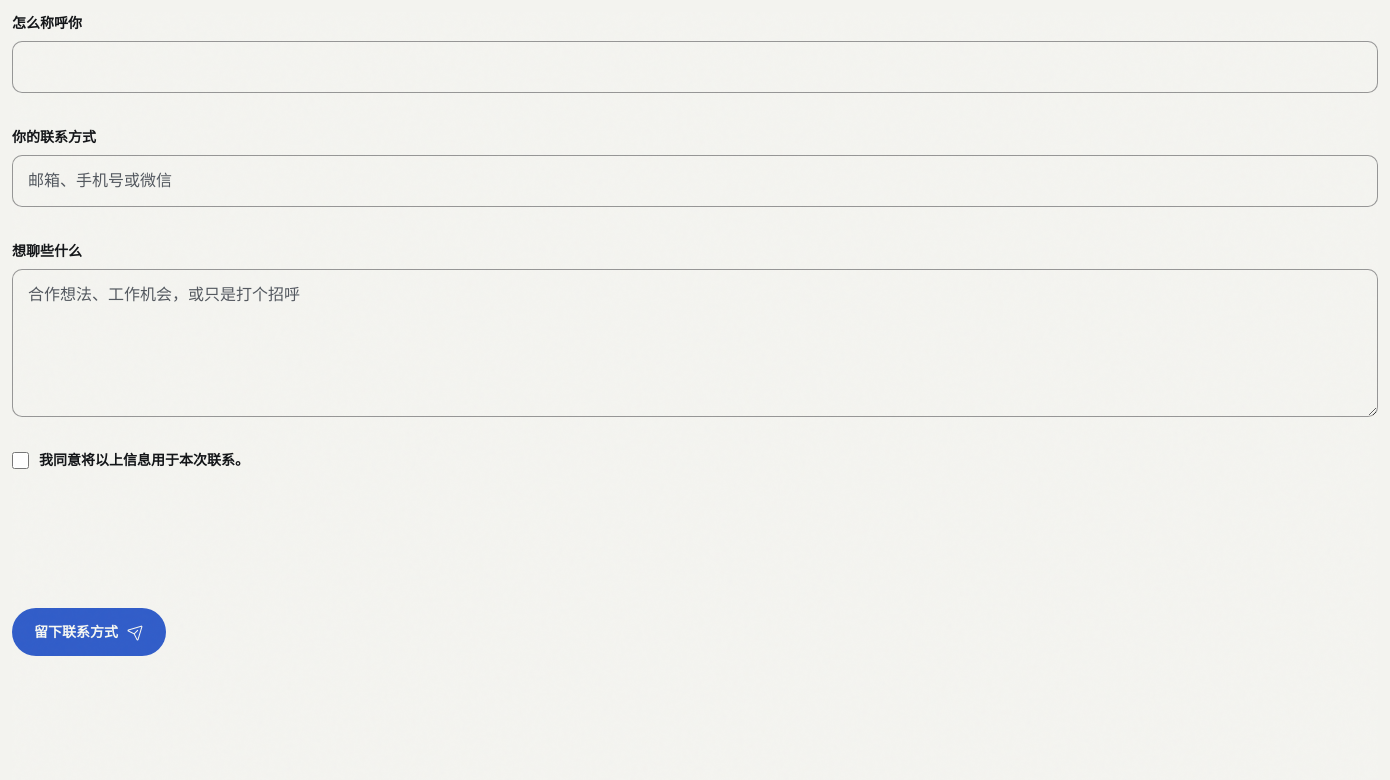
ContactForm › shows useful validation messages before sending
The image size is (1390, 780).
Click the button "留下联系方式": point(89, 632) [12,608,166,656]
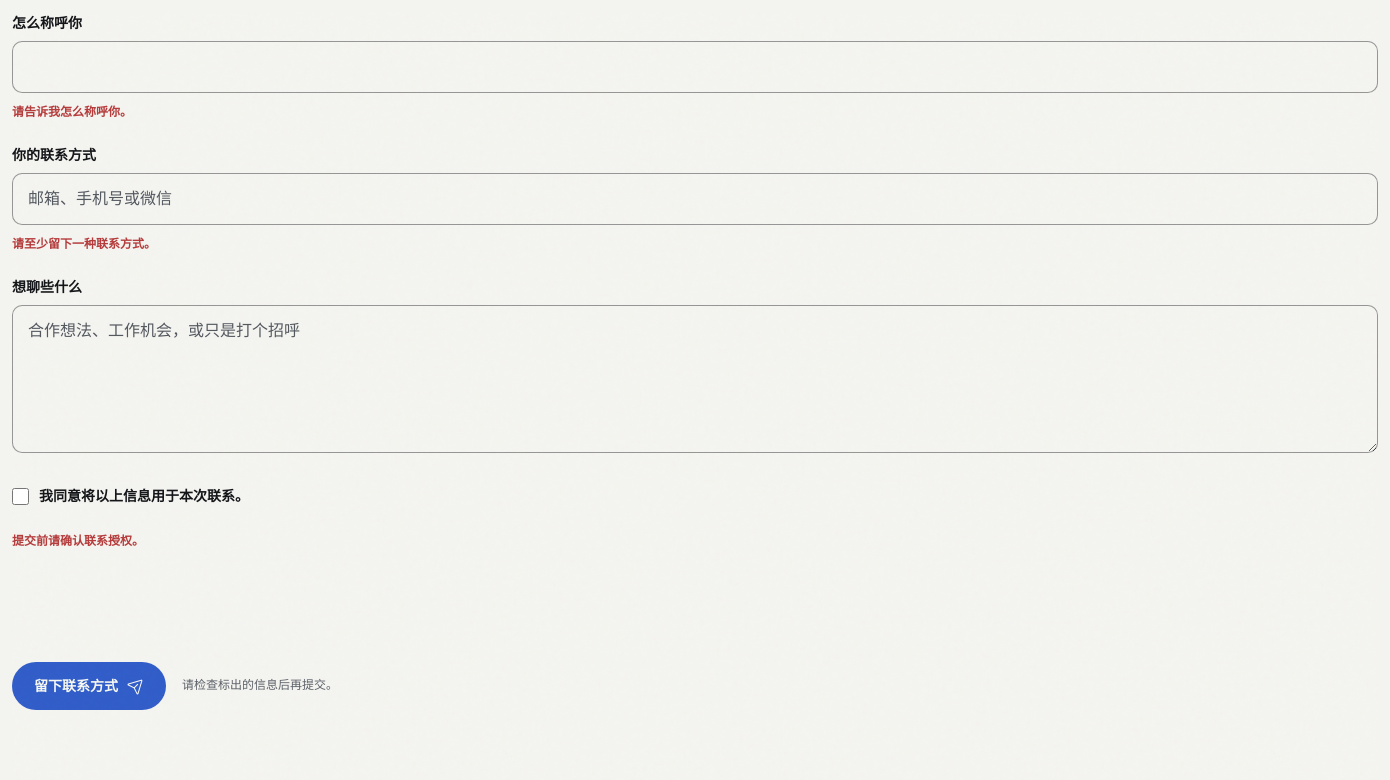
Result: the text "请告诉我怎么称呼你。" is shown at [12,104,132,120]
Result: the text "请至少留下一种联系方式。" is shown at [12,236,156,252]
Result: the text "提交前请确认联系授权。" is shown at [12,533,144,549]
